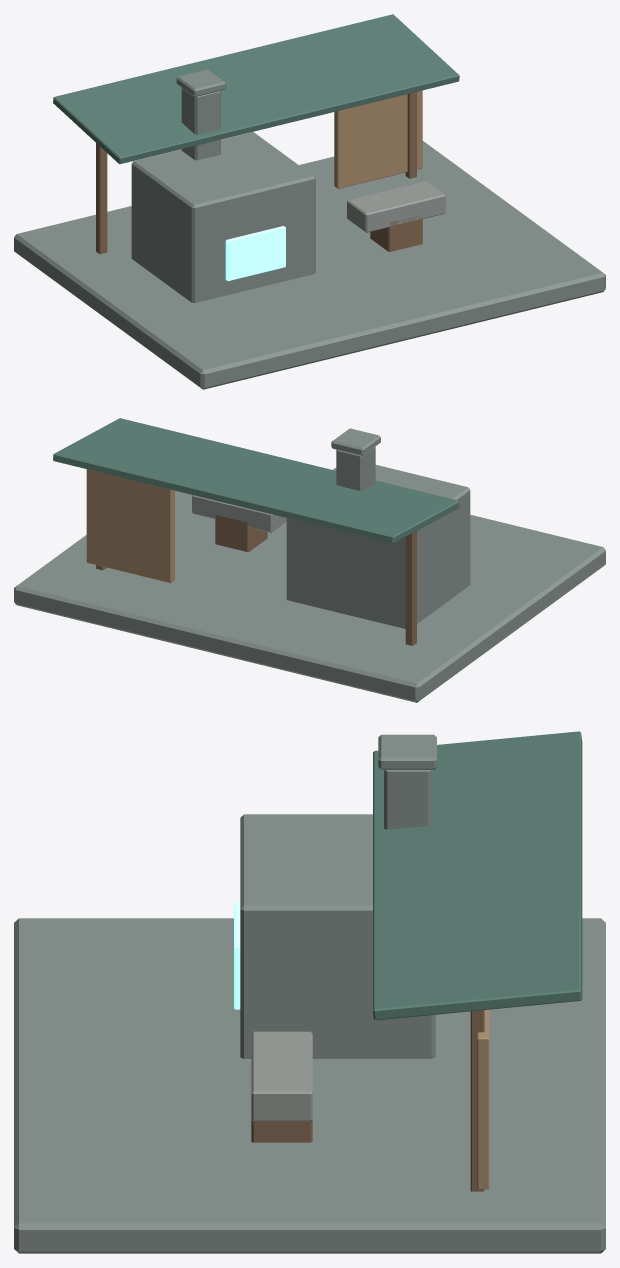
The model's file is LumenForgeYard.glb.
The picture shows the model from 3 angles, top to bottom: view 1: azimuth 30°, elevation 25°; view 2: azimuth 150°, elevation 25°; view 3: azimuth 270°, elevation 25°; orthographic projection. The views are drawn at different scales.
Visible parts, largest first — view 1: LumenForgeYard; view 2: LumenForgeYard; view 3: LumenForgeYard.
Boxes of the visible parts, bbox=[...] form: LumenForgeYard: bbox=[14, 14, 605, 389]; LumenForgeYard: bbox=[14, 418, 605, 702]; LumenForgeYard: bbox=[14, 731, 605, 1253].
Size of the model in its own units: 26.2 by 11.7 by 21.2.
